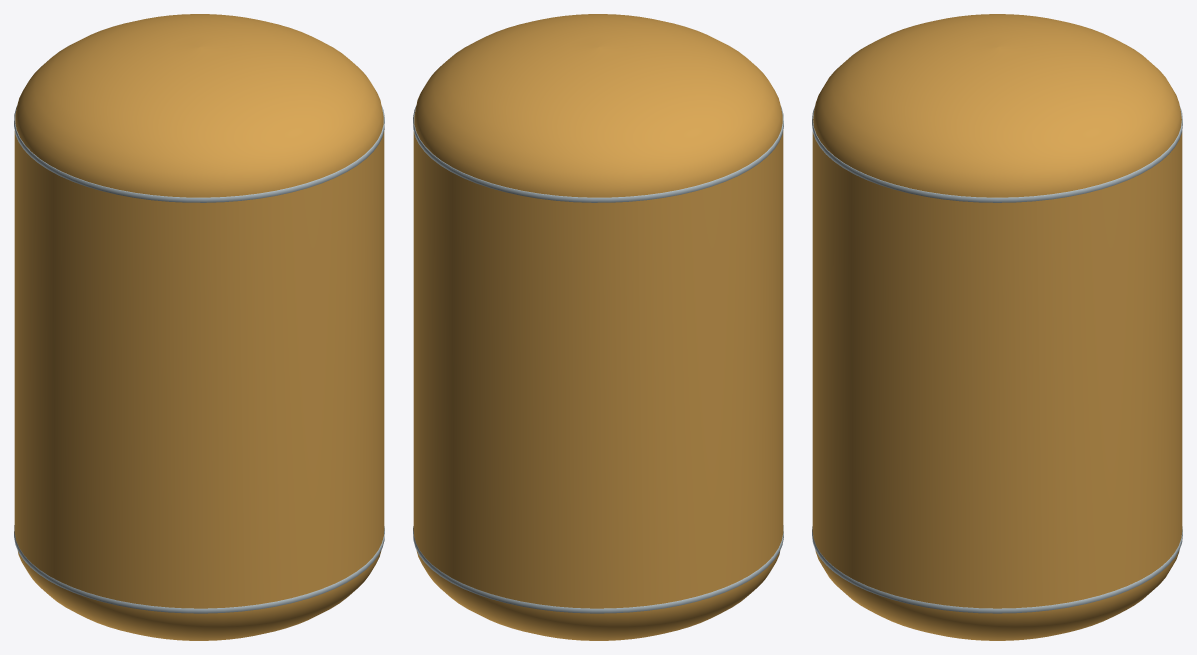
Rendered from s_ic_rp1_vessel.glb.
3 views of the same model, side by side, from view 1: azimuth 30°, elevation 25°; view 2: azimuth 150°, elevation 25°; view 3: azimuth 270°, elevation 25° (orthographic).
Visible parts, largest first — view 1: s_iccutawayrp1_tankmesh.mesh_Cutaway_•_RP-1, s_iccutawayrp1_tankmesh.mesh_Satin_aluminum; view 2: s_iccutawayrp1_tankmesh.mesh_Cutaway_•_RP-1, s_iccutawayrp1_tankmesh.mesh_Satin_aluminum; view 3: s_iccutawayrp1_tankmesh.mesh_Cutaway_•_RP-1, s_iccutawayrp1_tankmesh.mesh_Satin_aluminum.
Boxes of the visible parts, x1,y1,x2,y2 form: s_iccutawayrp1_tankmesh.mesh_Cutaway_•_RP-1: [14, 14, 384, 640]; s_iccutawayrp1_tankmesh.mesh_Satin_aluminum: [14, 106, 384, 613]; s_iccutawayrp1_tankmesh.mesh_Cutaway_•_RP-1: [413, 14, 783, 640]; s_iccutawayrp1_tankmesh.mesh_Satin_aluminum: [413, 106, 783, 613]; s_iccutawayrp1_tankmesh.mesh_Cutaway_•_RP-1: [812, 14, 1182, 640]; s_iccutawayrp1_tankmesh.mesh_Satin_aluminum: [812, 107, 1182, 613].
Size of the model in its own units: 9.21 by 15.35 by 9.21.
